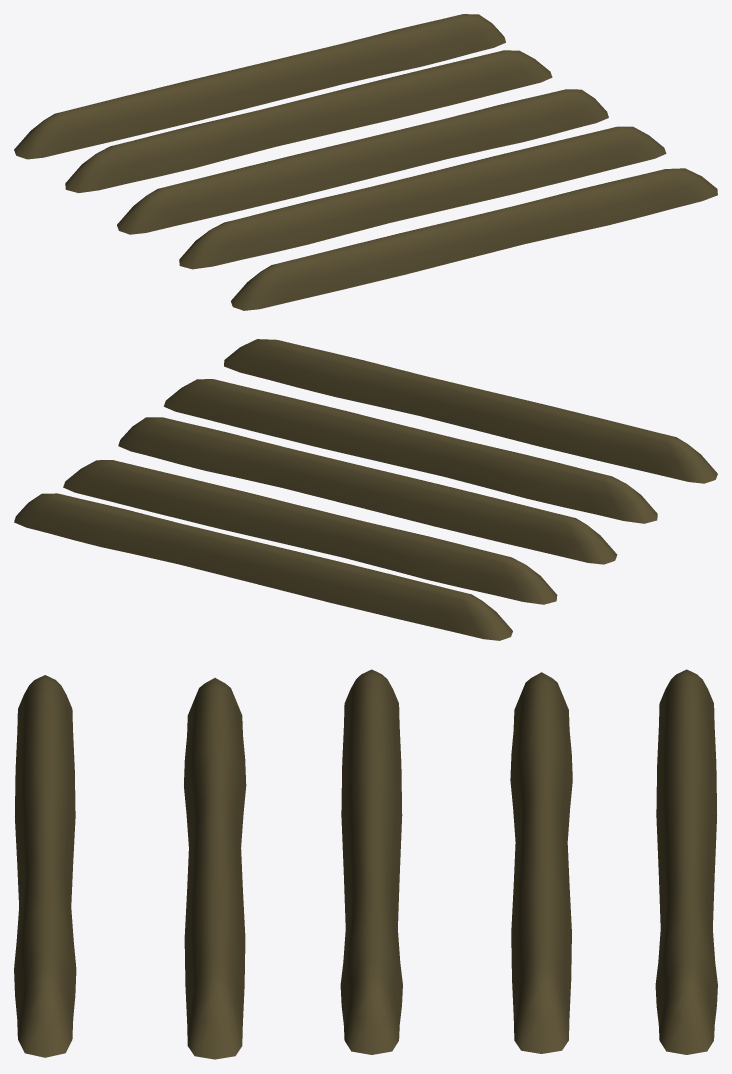
Rendered from farm.glb.
3 views of the same model, one above another, from view 1: azimuth 30°, elevation 25°; view 2: azimuth 150°, elevation 25°; view 3: azimuth 270°, elevation 25° (orthographic). The views are drawn at different scales.
Parts seen in each view (by area): view 1: Farm_Dirt_Level1; view 2: Farm_Dirt_Level1; view 3: Farm_Dirt_Level1.
Boxes of the visible parts, bbox=[...] form: Farm_Dirt_Level1: bbox=[14, 14, 717, 310]; Farm_Dirt_Level1: bbox=[14, 339, 717, 640]; Farm_Dirt_Level1: bbox=[14, 669, 717, 1059].
Bounding box in the file's own units: 0.8946 × 0.0563 × 0.7201.
